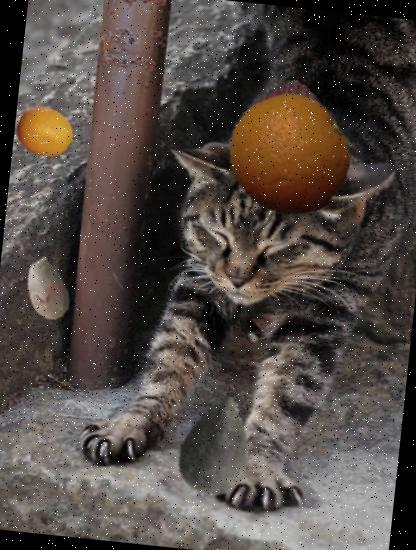Beetroot: (154, 384, 276, 506)
Lemon: (13, 100, 79, 166)
Orange: (222, 88, 357, 223)
Potato: (10, 254, 82, 325)
Strawberry: (218, 74, 361, 216)
